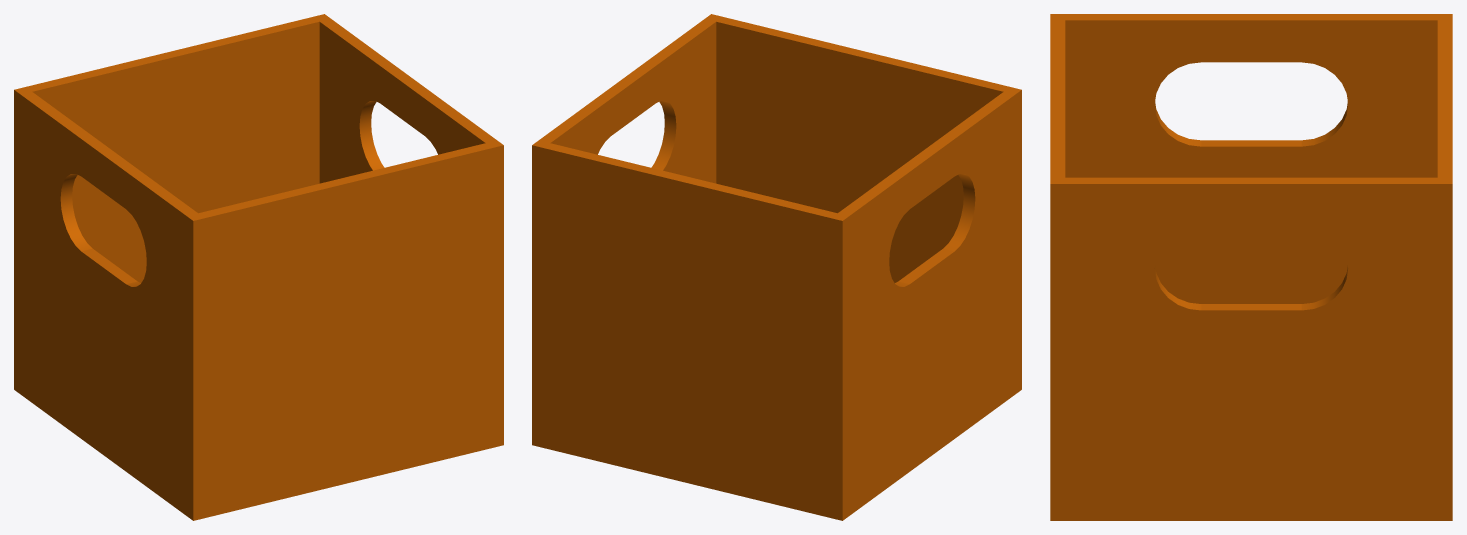
The picture shows the model from 3 angles, left to right: view 1: azimuth 30°, elevation 25°; view 2: azimuth 150°, elevation 25°; view 3: azimuth 270°, elevation 25°; orthographic projection. The views are drawn at different scales.
Visible parts, largest first — view 1: Model; view 2: Model; view 3: Model.
Part boxes in pixels (x1=…): Model: x1=14, y1=14, x2=503, y2=520; Model: x1=532, y1=14, x2=1021, y2=520; Model: x1=1050, y1=14, x2=1452, y2=520.
Bounding box in the file's own units: 24.38 × 22.5 × 24.38.
